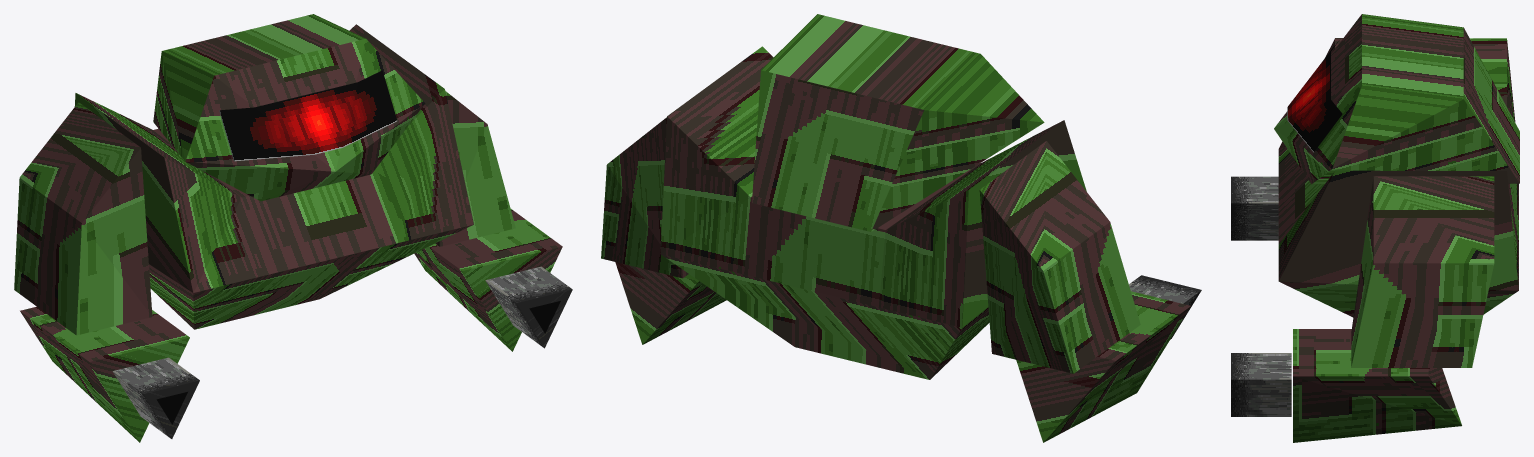
Rendered from Light_Hulk.obj.
3 renders of one model, left to right at view 1: azimuth 30°, elevation 25°; view 2: azimuth 150°, elevation 25°; view 3: azimuth 270°, elevation 25°, orthographic. The views are drawn at different scales.
Parts seen in each view (by area): view 1: Light_Hulk; view 2: Light_Hulk; view 3: Light_Hulk.
Part boxes in pixels (box(x1,y1,x2,y2)): Light_Hulk: box(14, 14, 572, 442); Light_Hulk: box(601, 14, 1201, 442); Light_Hulk: box(1231, 14, 1519, 442).
Bounding box in the file's own units: 9 × 5.72 × 4.93.
4 materials, 3 textured.
